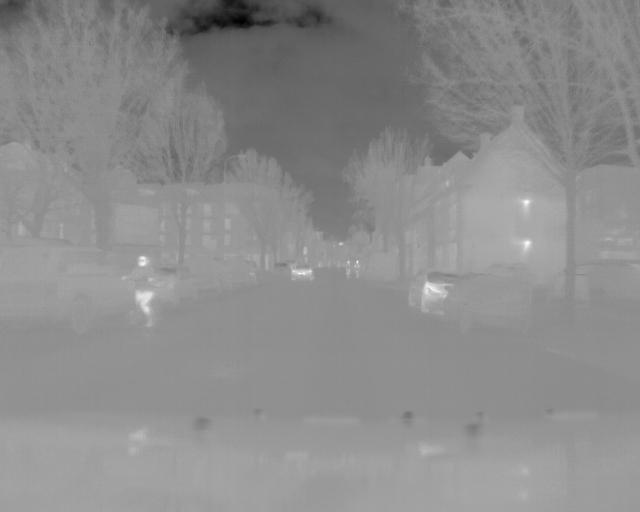car: (409, 269, 456, 316), (291, 262, 316, 284)
person: (133, 255, 155, 327), (345, 258, 353, 282)
